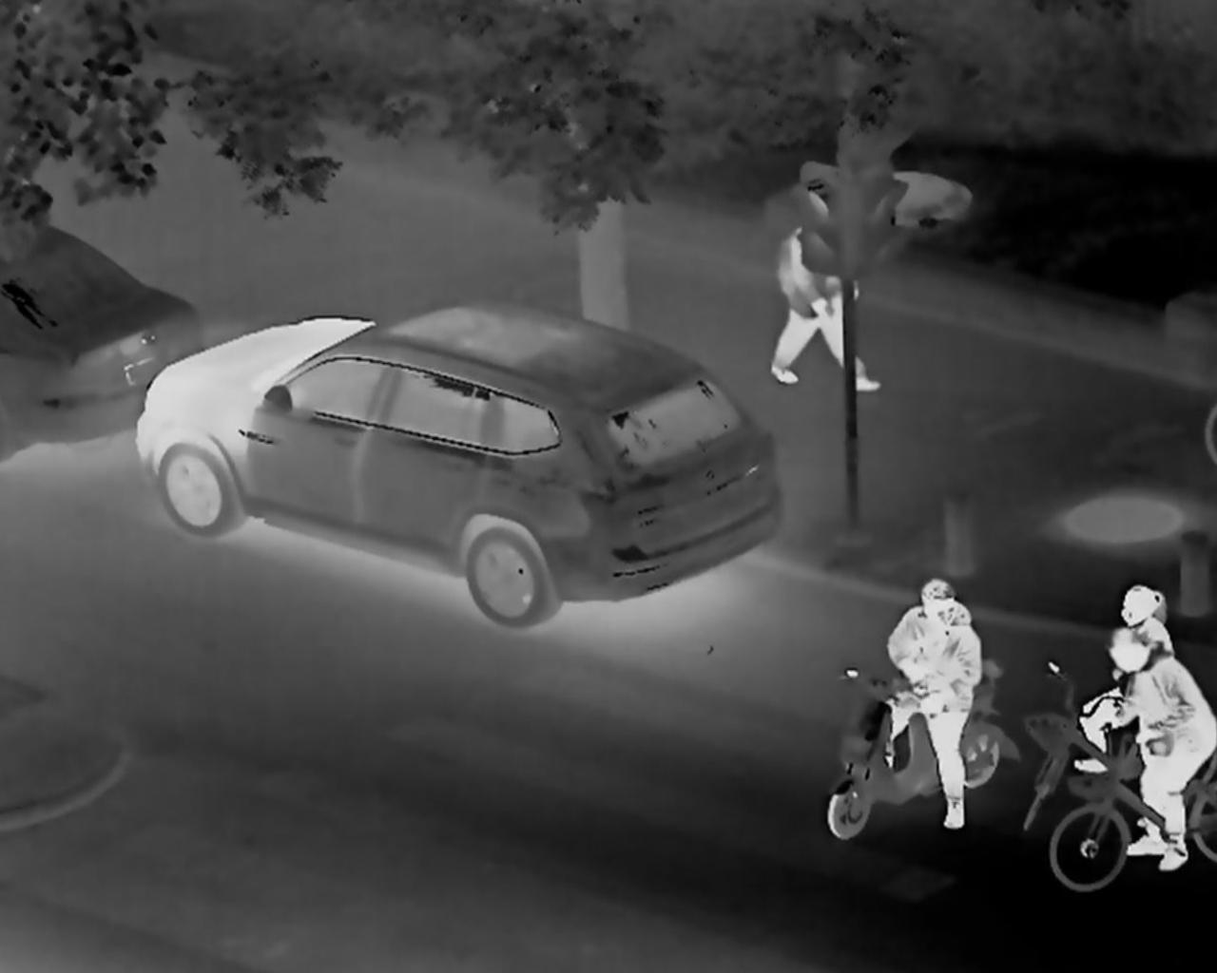person: (1105, 626, 1209, 878), (878, 576, 978, 834), (771, 202, 880, 398), (1068, 581, 1175, 773)
